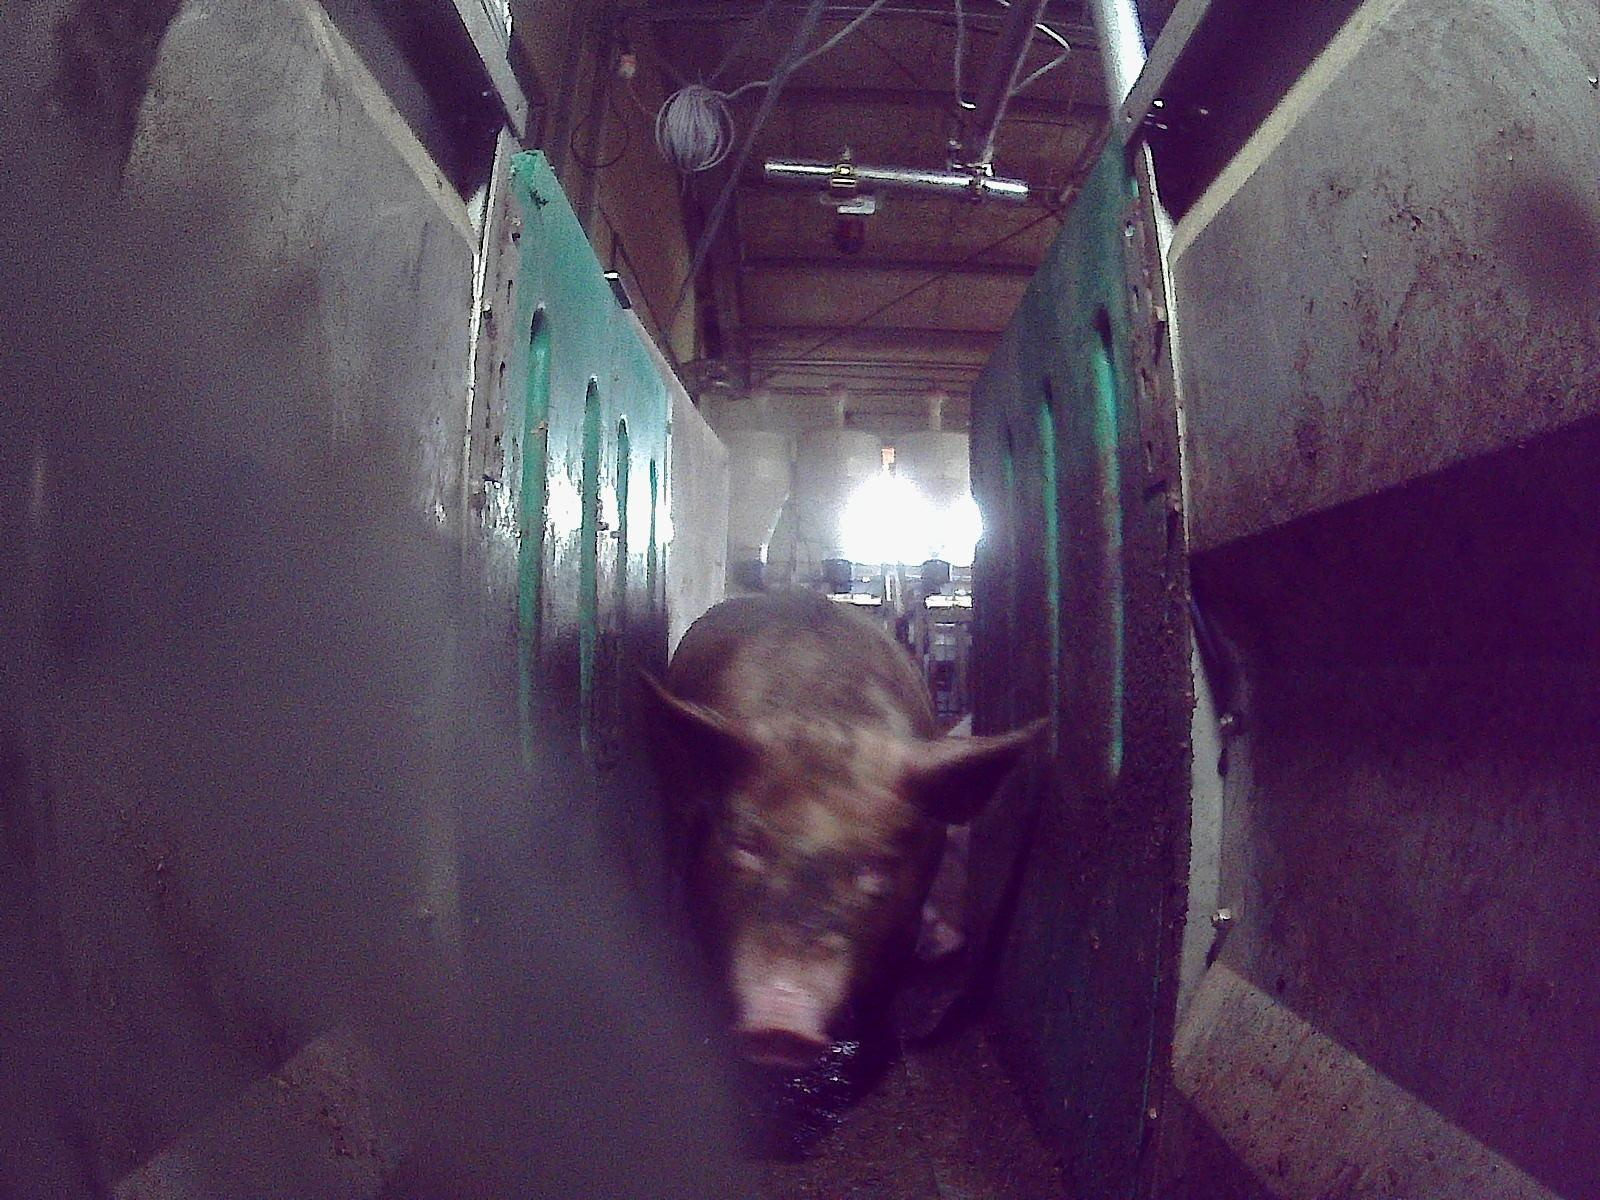Face: (695, 723, 922, 1070)
